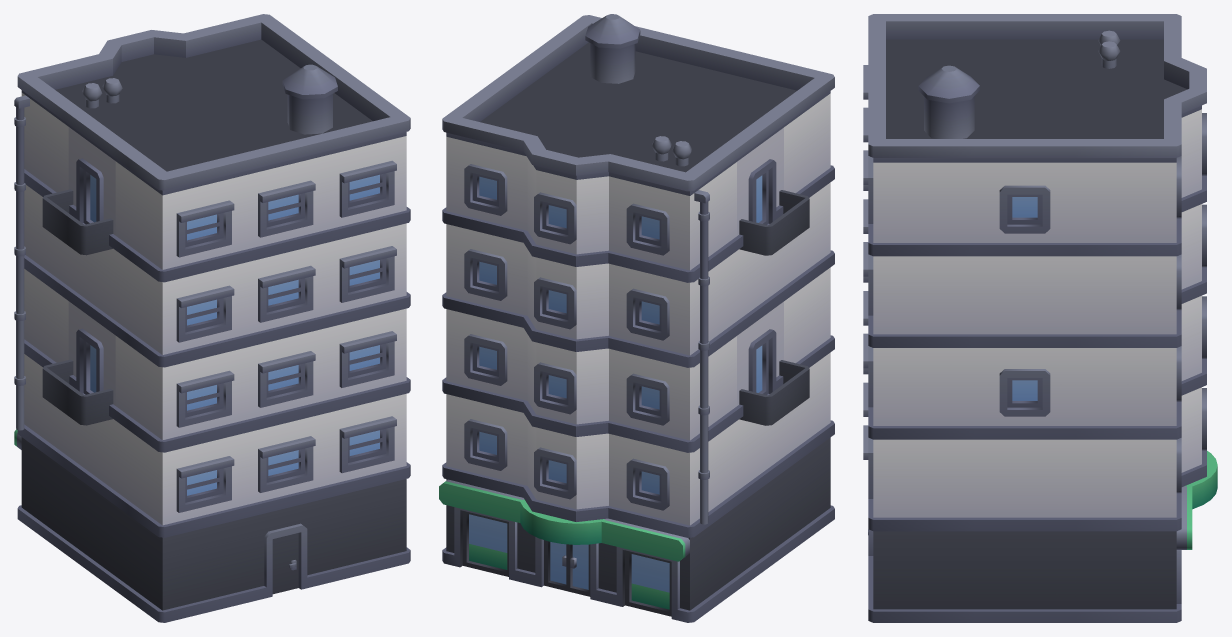
The model's file is k_c_building-l.glb.
3 views of the same model, side by side, from view 1: azimuth 30°, elevation 25°; view 2: azimuth 150°, elevation 25°; view 3: azimuth 270°, elevation 25° (orthographic). The views are drawn at different scales.
Parts seen in each view (by area): view 1: building-l; view 2: building-l; view 3: building-l.
Part boxes in pixels (x1=…): building-l: x1=14, y1=14, x2=410, y2=622; building-l: x1=439, y1=14, x2=834, y2=622; building-l: x1=863, y1=14, x2=1217, y2=622.
Size of the model in its own units: 1.37 by 2.27 by 1.4.
Materials: 1 (1 with a texture image).
